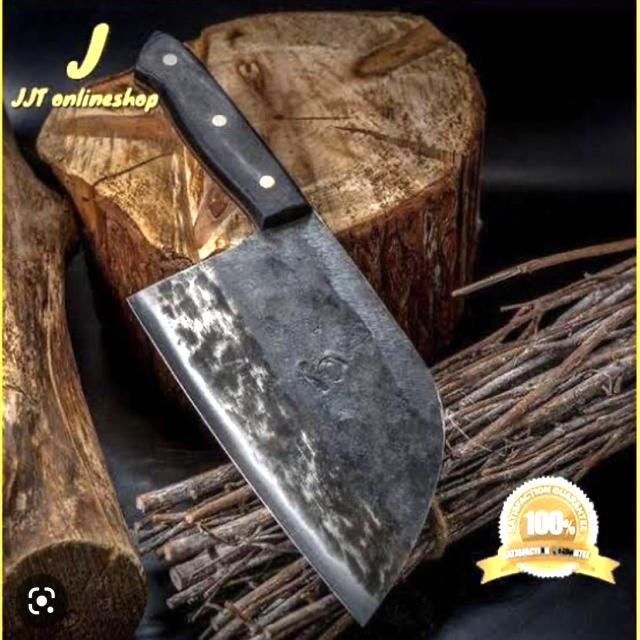knife: (116, 24, 451, 632)
